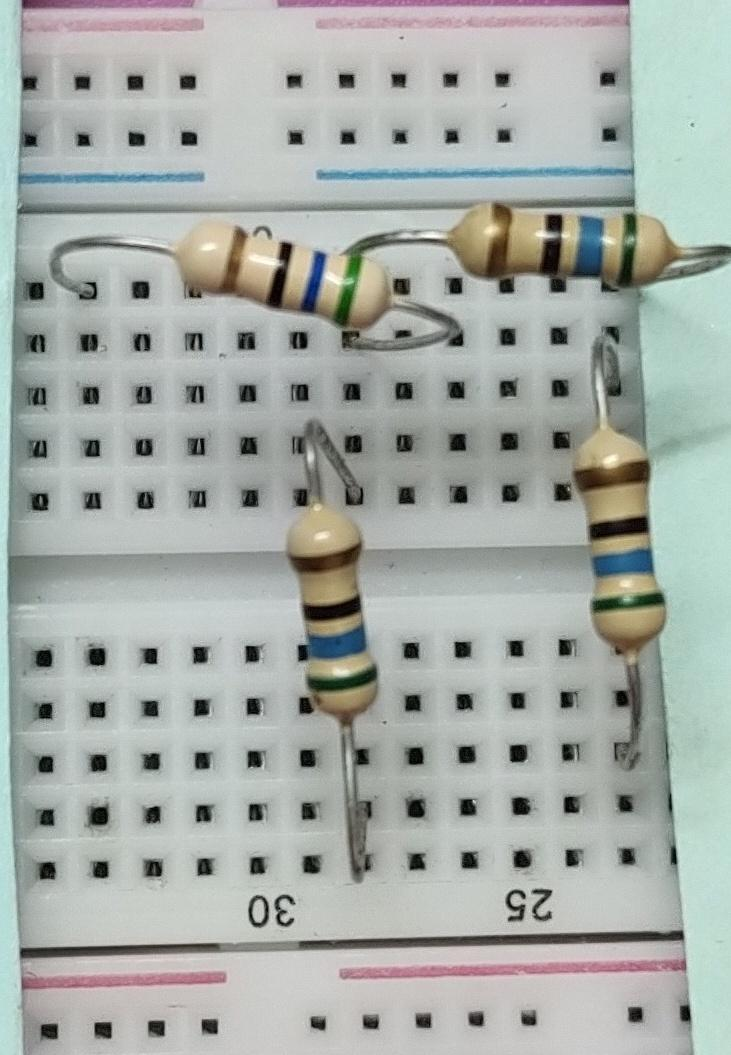resistor: (277, 497, 393, 743), (553, 417, 672, 649), (167, 205, 393, 326), (445, 195, 682, 302)
